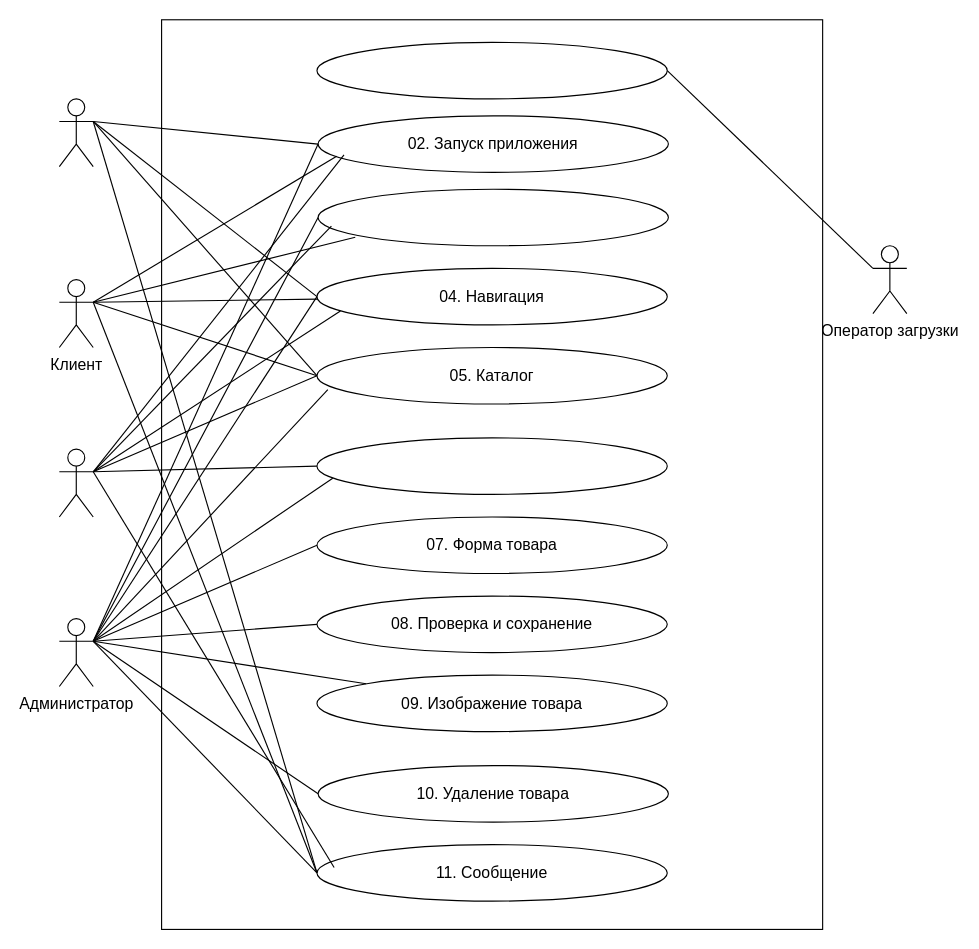
Some shapes in this 979 by 949 pixel diagram are drawn without their labels. Each missing label, with the centre of its shape:
"01. Импорт данных" belongs at (x=491, y=70).
"03. Вход и гость" belongs at (x=492, y=217).
"06. Поиск, фильтрация, сортировка" belongs at (x=491, y=465).
"Гость" belongs at (x=75, y=132).
"Менеджер" belongs at (x=75, y=482).
